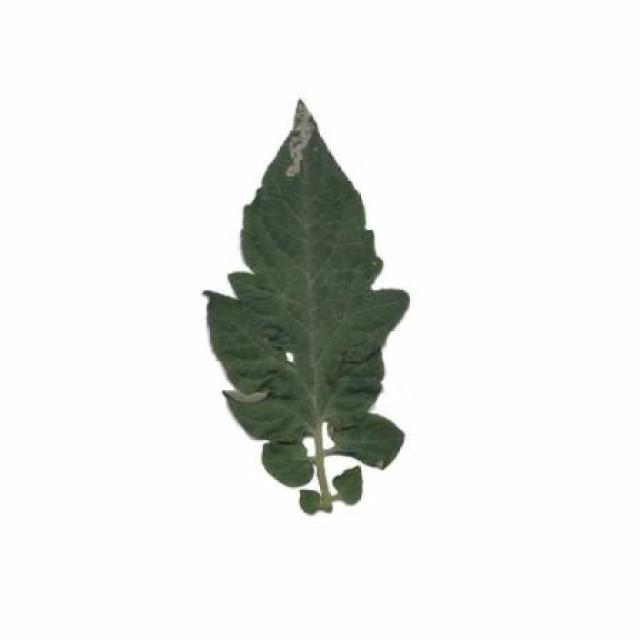Leaf Miner: (204, 97, 417, 446)
